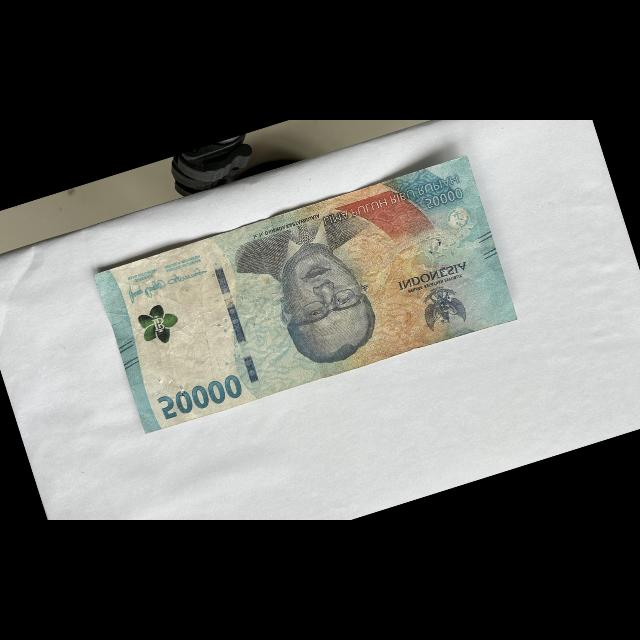Palsu-50k: (89, 151, 521, 439)
Tinta-Palsu-50k: (134, 299, 185, 350)
